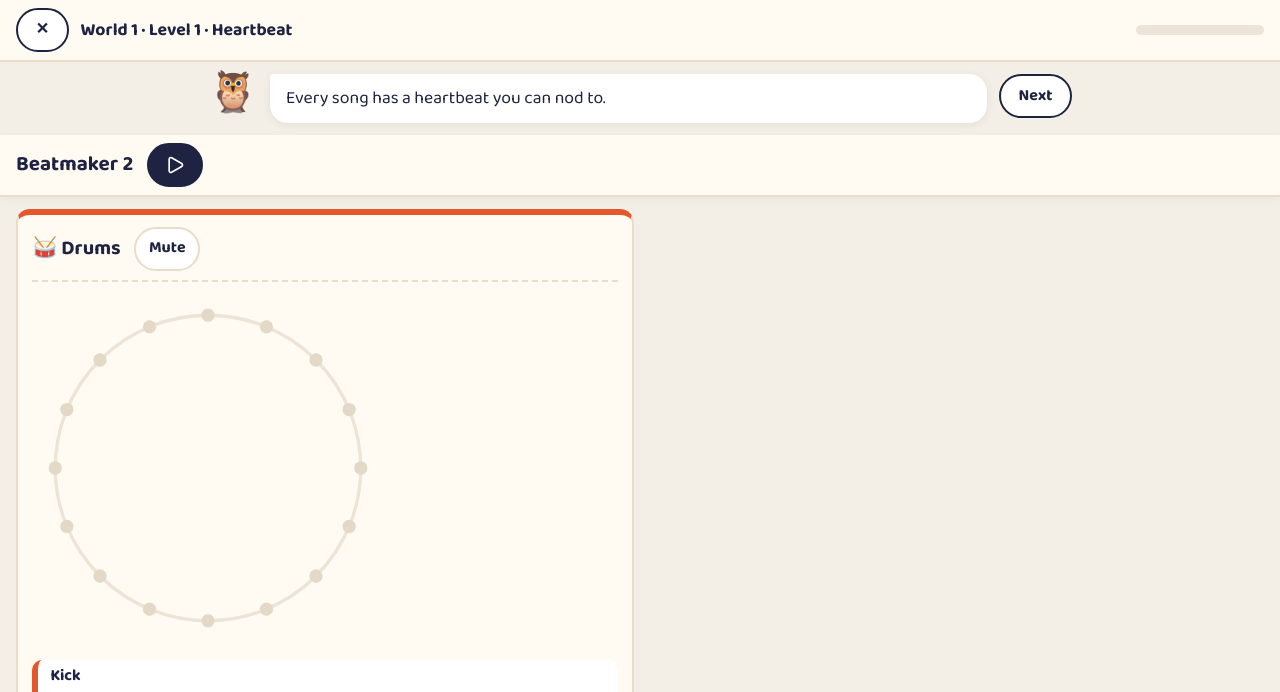
Lesson › coach shows bubbles one at a time with bold text
Expected: the text "Every song has a heartbeat you can nod to." is shown, x1=270 y1=74 x2=987 y2=123
Click the button "Next": {"x": 1035, "y": 96} x1=999 y1=74 x2=1072 y2=118
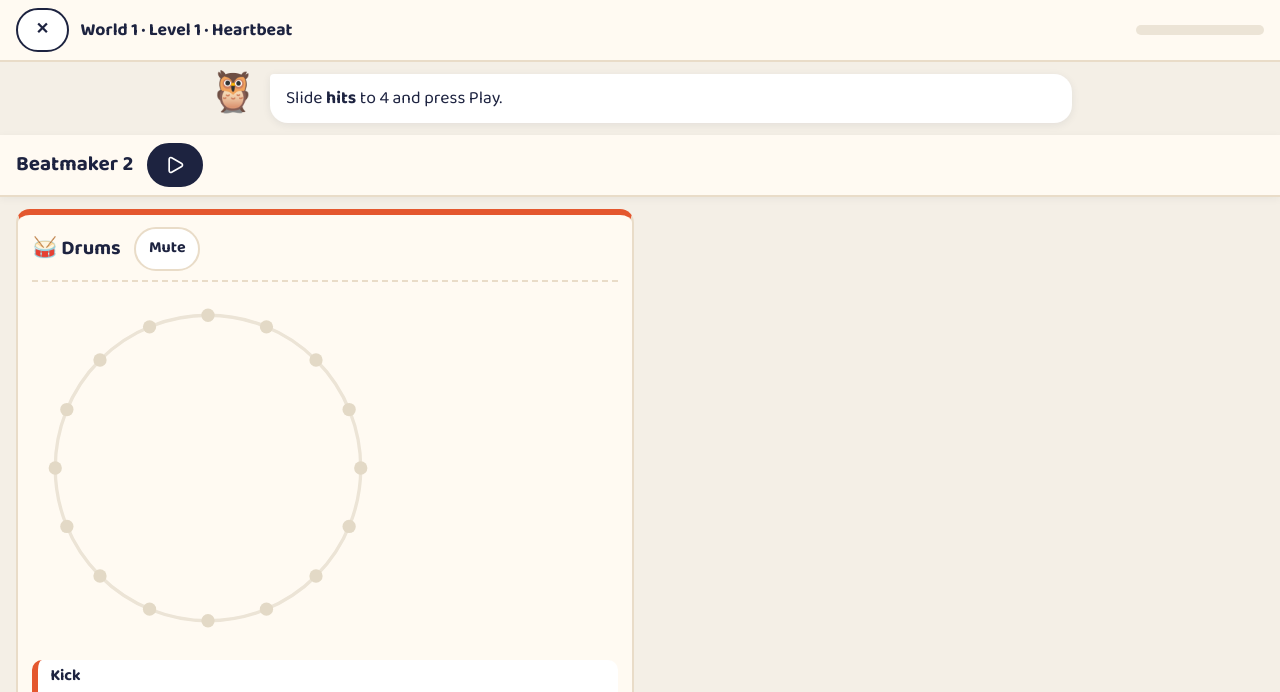
Expected: the text "Every song has a heartbeat you can nod to." is gone
Expected: the text "hits" is shown, x1=326 y1=84 x2=356 y2=112
